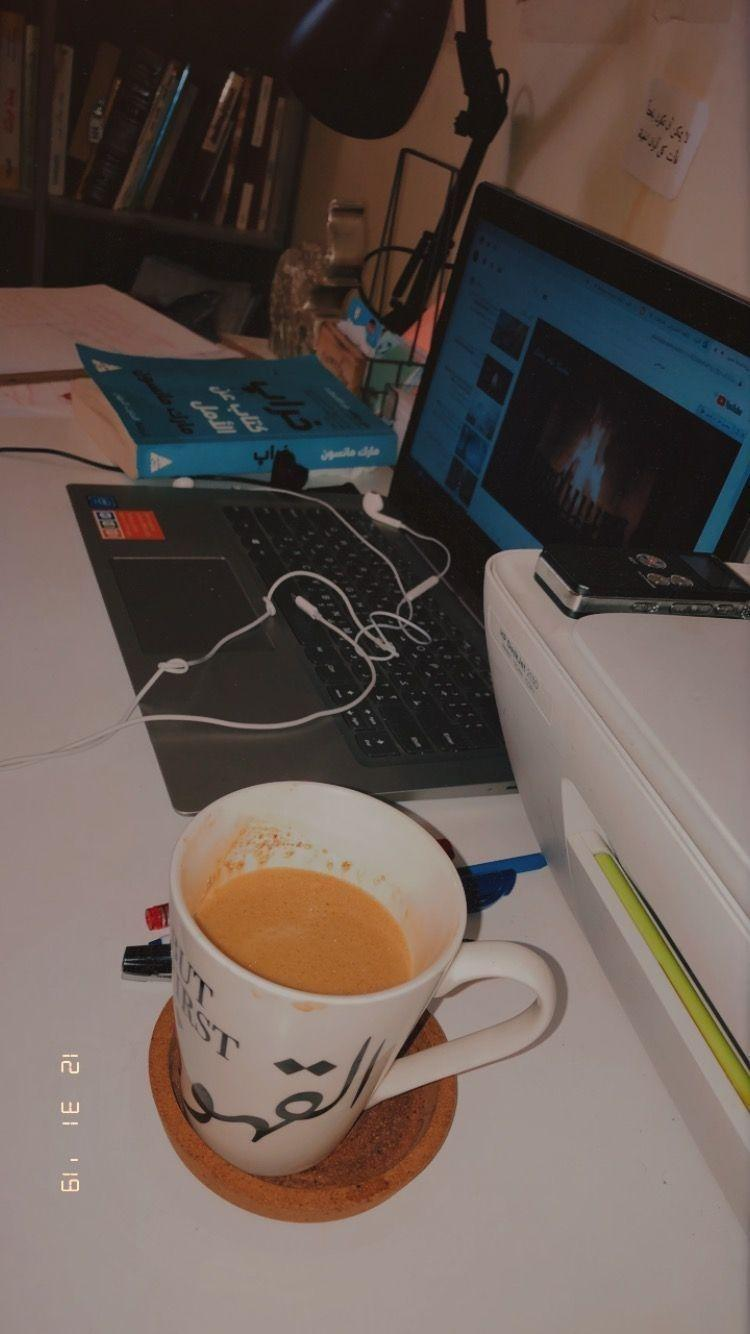cup-handle: (166, 782, 566, 1179)
